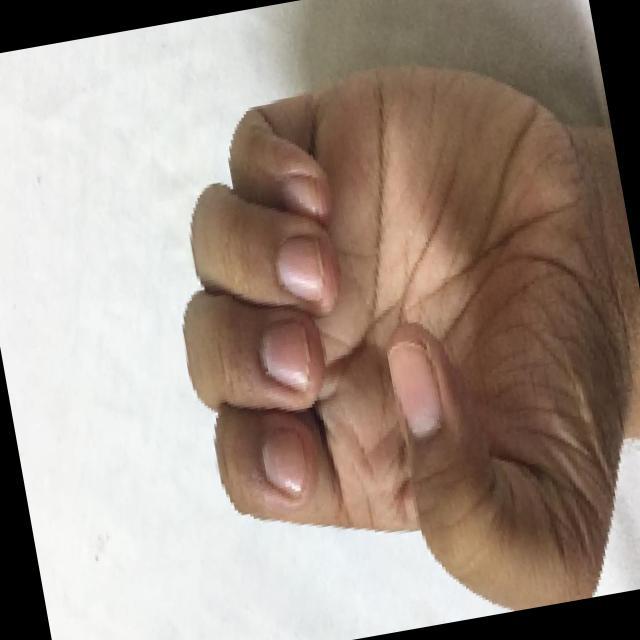Nail: (387, 339, 442, 435), (259, 320, 309, 390), (275, 234, 324, 302), (261, 426, 308, 494), (283, 175, 316, 215)
